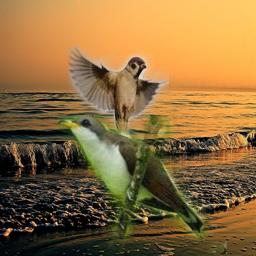Cuckoo: (58, 115, 227, 254)
Sparrow: (68, 46, 169, 162)
